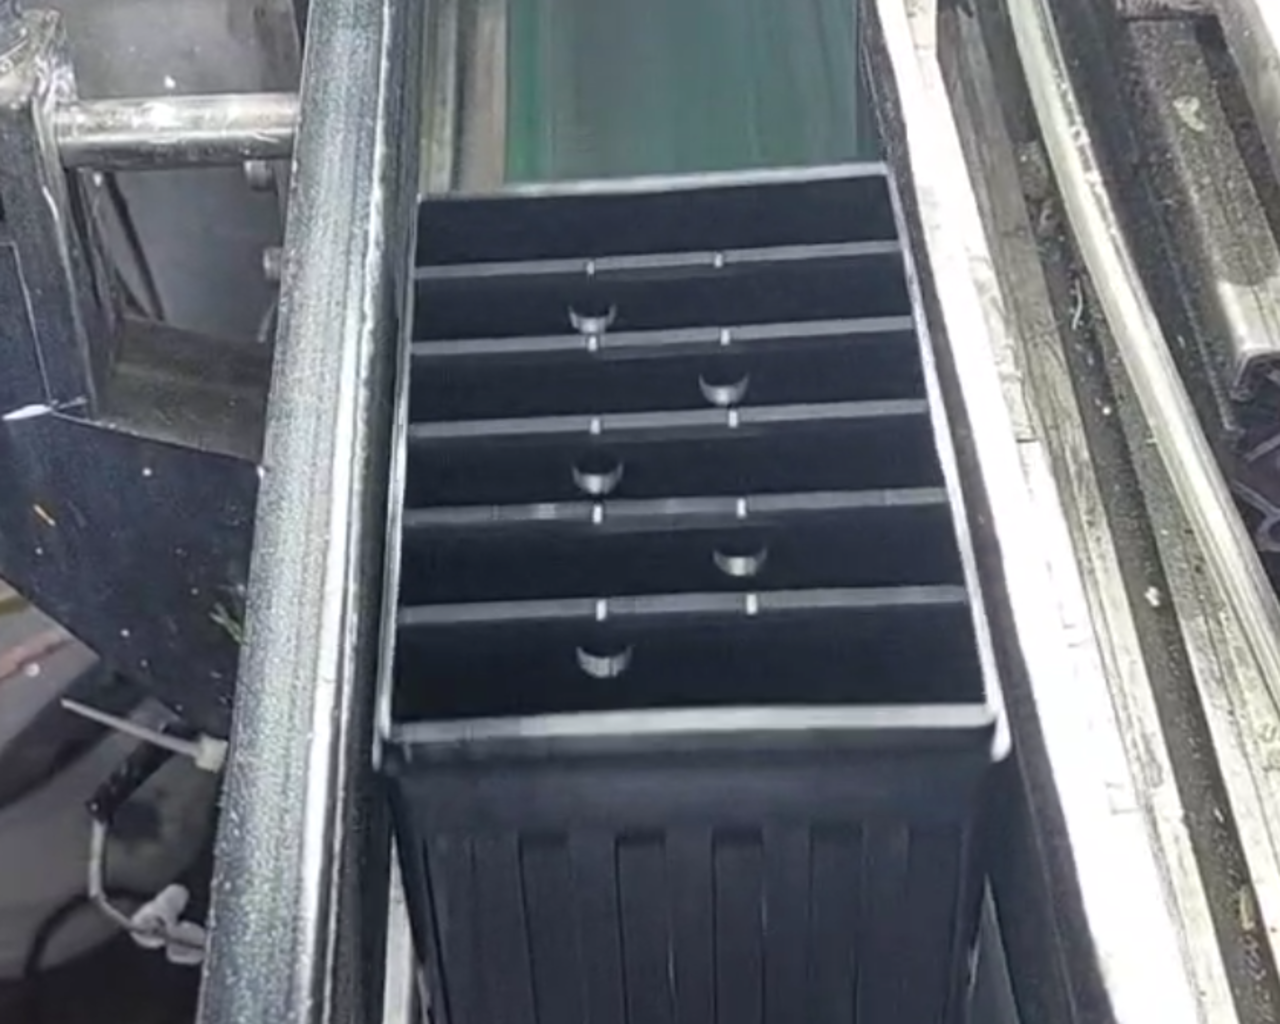box: (358, 150, 1022, 786)
round: (693, 518, 788, 585), (563, 623, 644, 686), (560, 438, 635, 504), (555, 279, 628, 339), (688, 351, 760, 411)
